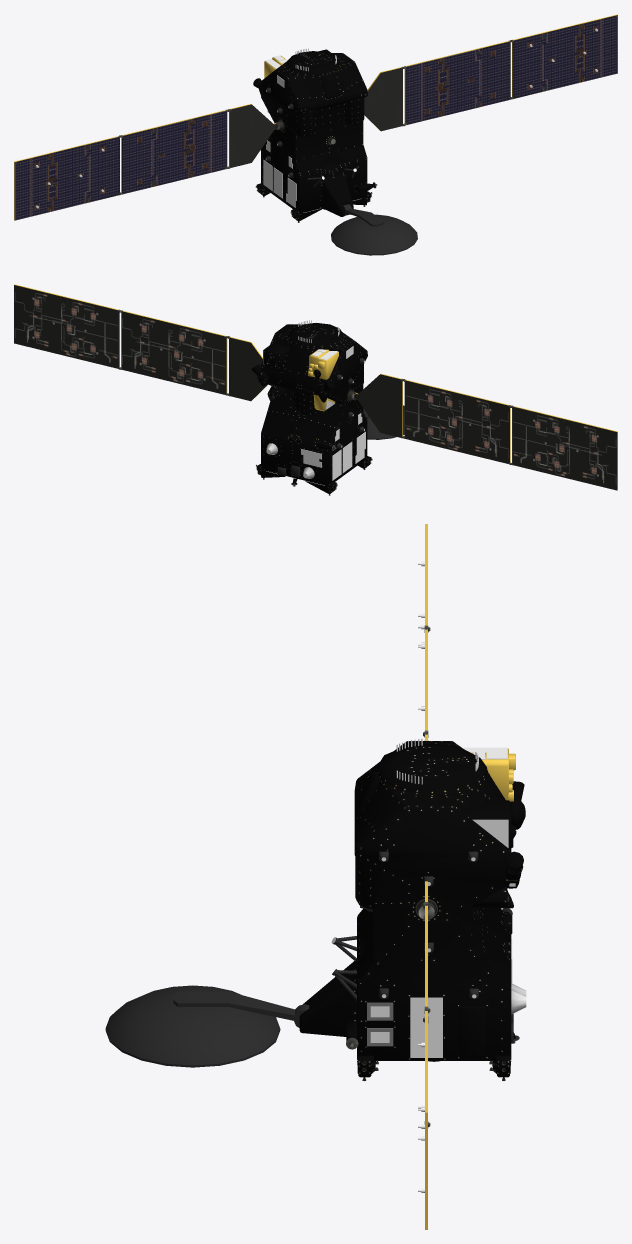
File: TGO.gltf
The picture shows the model from 3 angles, top to bottom: view 1: azimuth 30°, elevation 25°; view 2: azimuth 150°, elevation 25°; view 3: azimuth 270°, elevation 25°; orthographic projection. The views are drawn at different scales.
Parts seen in each view (by area): view 1: TGO_BUS, right_array_2, left_array_2, left_array_3, right_array_3, HGA_pivot, right_array_1, left_array_1, reflectors; view 2: TGO_BUS, left_array_2, right_array_2, right_array_3, left_array_3, right_array_1, left_array_1, reflectors, HGA_pivot, instruments; view 3: TGO_BUS, HGA_pivot, reflectors.
Boxes of the visible parts, left/top/right/bottom form: TGO_BUS: left=253, top=49, right=374, bottom=221; right_array_2: left=121, top=109, right=229, bottom=194; left_array_2: left=403, top=40, right=511, bottom=126; left_array_3: left=510, top=14, right=617, bottom=99; right_array_3: left=14, top=135, right=120, bottom=220; HGA_pivot: left=331, top=204, right=417, bottom=255; right_array_1: left=228, top=104, right=277, bottom=168; left_array_1: left=364, top=66, right=403, bottom=131; reflectors: left=263, top=55, right=296, bottom=207; TGO_BUS: left=251, top=323, right=371, bottom=494; left_array_2: left=121, top=310, right=229, bottom=395; right_array_2: left=403, top=379, right=510, bottom=464; right_array_3: left=510, top=405, right=617, bottom=490; left_array_3: left=14, top=284, right=120, bottom=369; right_array_1: left=354, top=374, right=403, bottom=438; left_array_1: left=228, top=336, right=267, bottom=401; reflectors: left=263, top=346, right=365, bottom=480; HGA_pivot: left=363, top=405, right=404, bottom=439; instruments: left=256, top=443, right=372, bottom=495; TGO_BUS: left=299, top=741, right=525, bottom=1077; HGA_pivot: left=105, top=985, right=309, bottom=1067; reflectors: left=370, top=747, right=515, bottom=1057.
Size of the model in its own units: 17.53 by 4.13 by 5.3.
12 materials, 3 textured.
